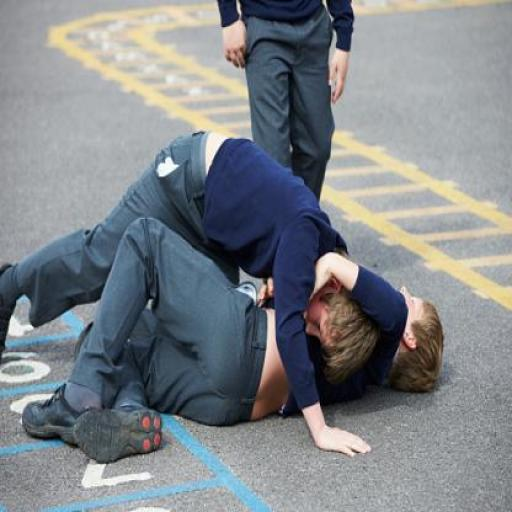Fighting: (0, 125, 451, 458)
